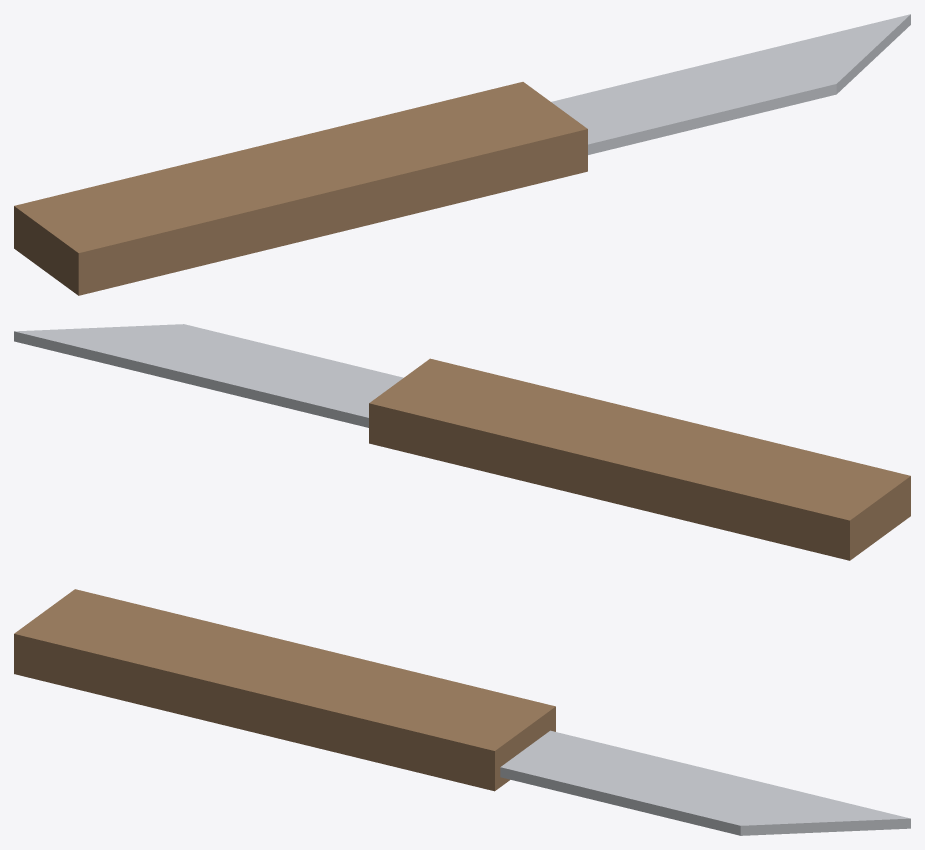
The model's file is prop-dovetail-marking-knife-dm1.fbx.
The picture shows the model from 3 angles, top to bottom: view 1: azimuth 30°, elevation 25°; view 2: azimuth 150°, elevation 25°; view 3: azimuth 330°, elevation 25°; orthographic projection. The views are drawn at different scales.
Visible parts, largest first — view 1: prop-dovetail-marking-knife-dm1; view 2: prop-dovetail-marking-knife-dm1; view 3: prop-dovetail-marking-knife-dm1.
Boxes of the visible parts, bbox=[...] form: prop-dovetail-marking-knife-dm1: bbox=[14, 14, 910, 295]; prop-dovetail-marking-knife-dm1: bbox=[14, 324, 910, 560]; prop-dovetail-marking-knife-dm1: bbox=[14, 589, 910, 835].
Size of the model in its own units: 17.5 by 0.8 by 2.2.
